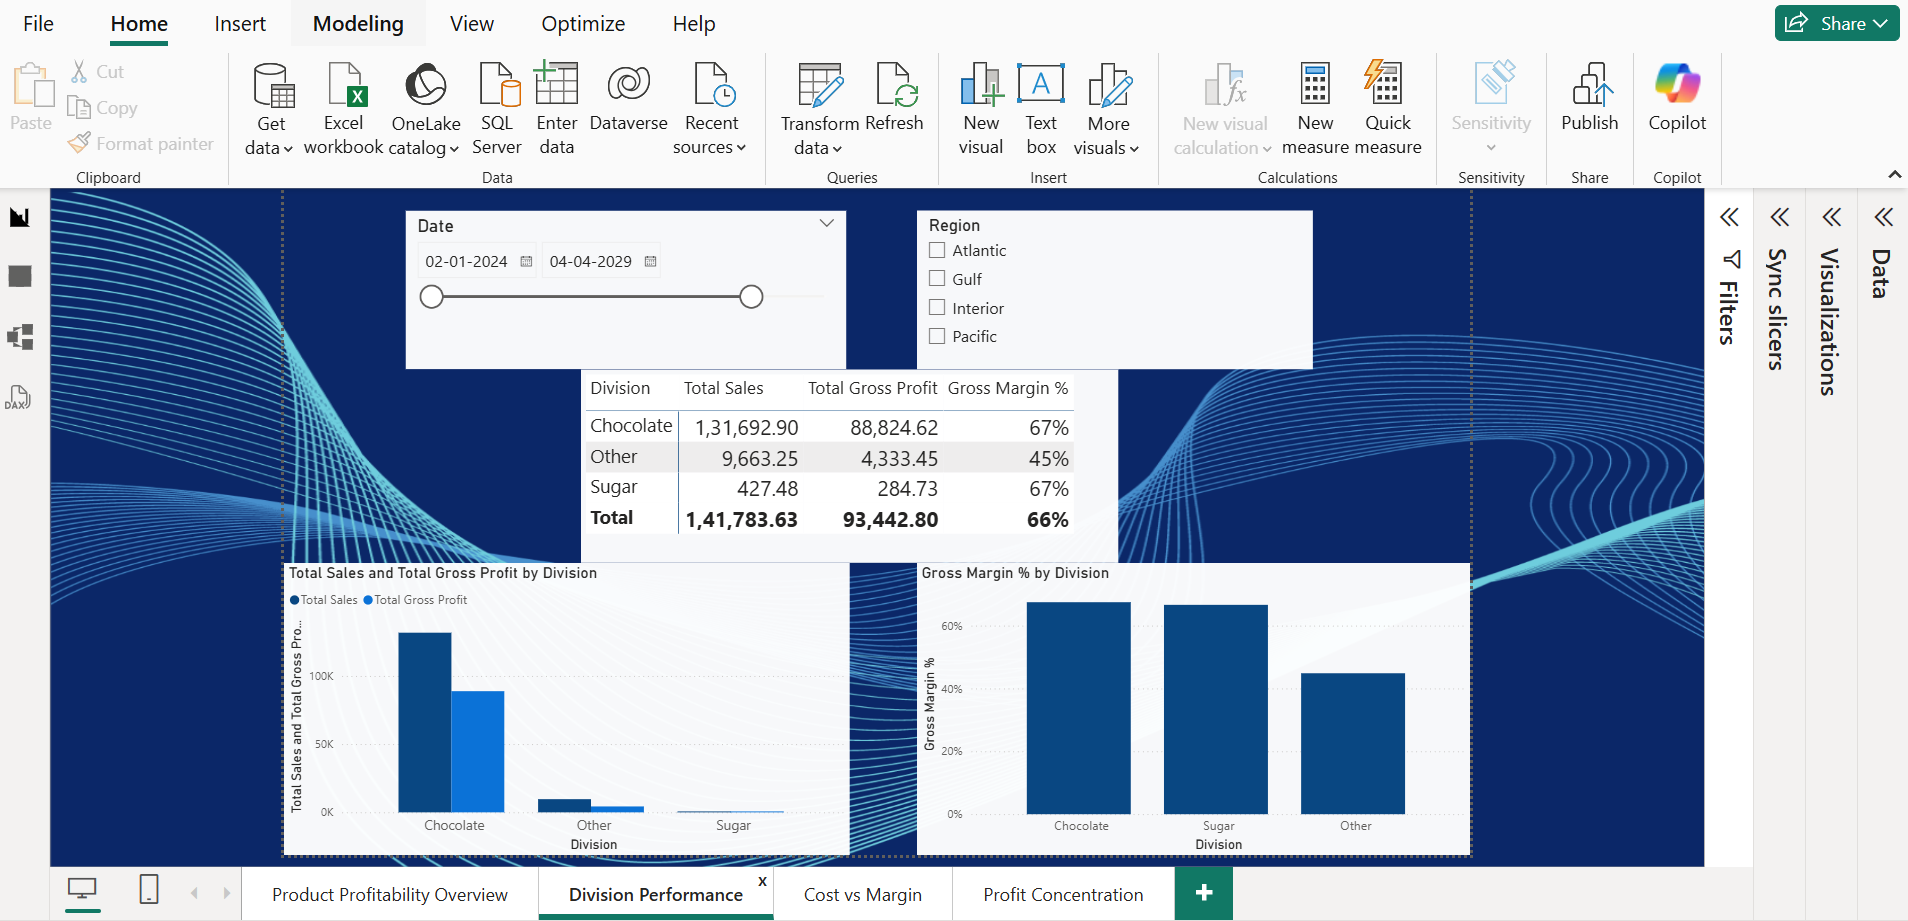

Layout of this report page (visuals, bound fields, positions):
{"tool":"powerbi","page":{"name":"Division Performance","canvas":[1280,720],"ordinal":1},"visuals":[{"type":"pivotTable","fields":{"Rows":["Dim_Product.Division"],"Values":["_Measures.Total Sales","_Measures.Total Gross Profit","_Measures.Gross Margin %"]},"box":[320.6,195.9,579.7,208.9],"z":0},{"type":"clusteredColumnChart","fields":{"Category":["Dim_Product.Division"],"Y":["_Measures.Total Sales","_Measures.Total Gross Profit"]},"box":[0,404.4,610.5,315.8],"z":1000},{"type":"clusteredColumnChart","fields":{"Category":["Dim_Product.Division"],"Y":["_Measures.Gross Margin %"]},"box":[683.7,404.4,597,315.8],"z":2000},{"type":"slicer","fields":{"Values":["Dim_Date.Date"]},"box":[131,25,475.7,171.4],"z":3000},{"type":"slicer","fields":{"Values":["Fact_Orders.Region"]},"box":[683.7,25,427.5,171.4],"z":4000}]}

Visuals, with their boxes on the page's 1280x720 design canvas (x1, y1, x2, y2). These are canvas units, not pixel positions in the 1908x921 screenshot, which may show the page scaled, cropped or inside an application window:
pivotTable - Dim_Product.Division x _Measures.Total Sales: (321, 196, 900, 405)
clusteredColumnChart - Dim_Product.Division x _Measures.Total Sales: (0, 404, 610, 720)
clusteredColumnChart - Dim_Product.Division x _Measures.Gross Margin %: (684, 404, 1281, 720)
slicer - Dim_Date.Date: (131, 25, 607, 196)
slicer - Fact_Orders.Region: (684, 25, 1111, 196)
